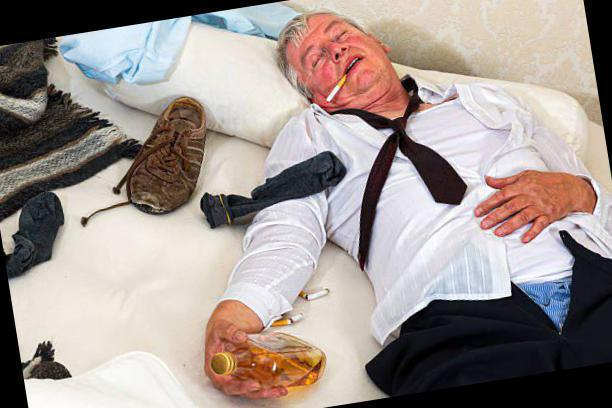Drunk: (292, 21, 387, 95)
